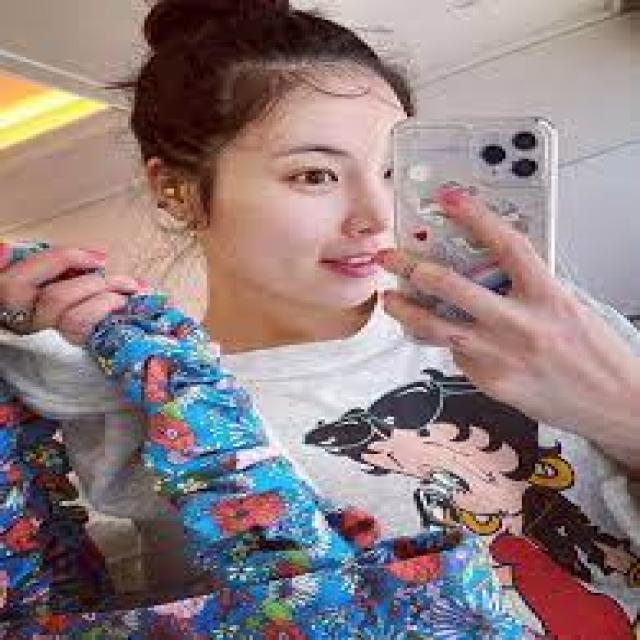Phone: (390, 114, 557, 330)
